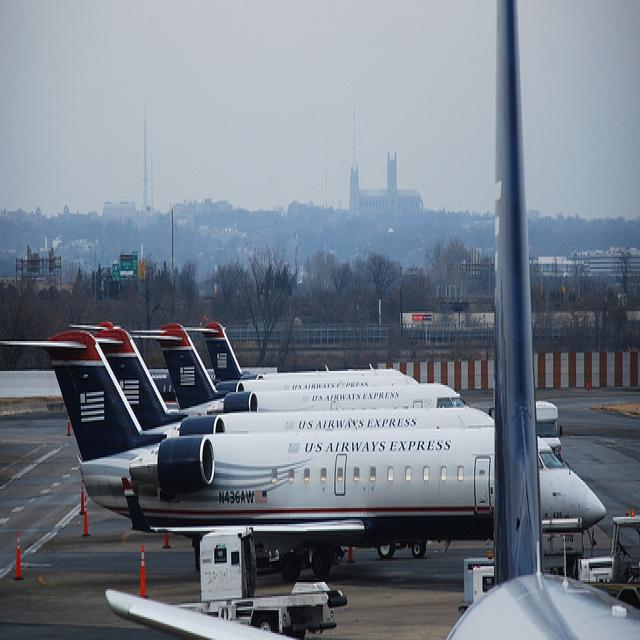Vehicle: (228, 596, 336, 639), (200, 528, 260, 604), (536, 398, 563, 462)
